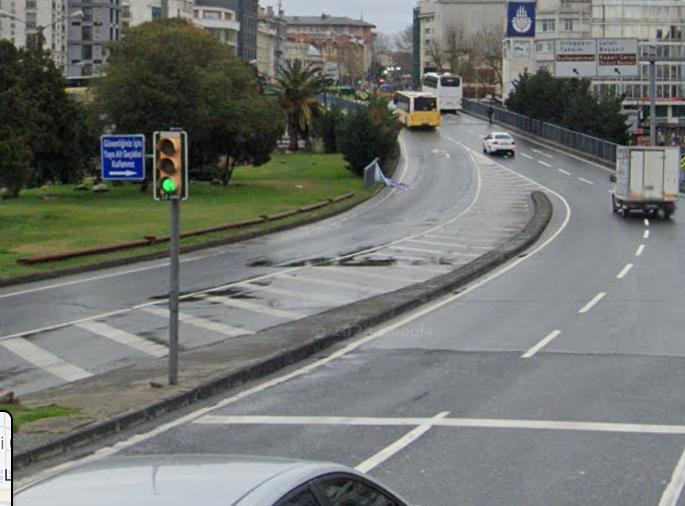greenlight: (155, 131, 187, 201)
